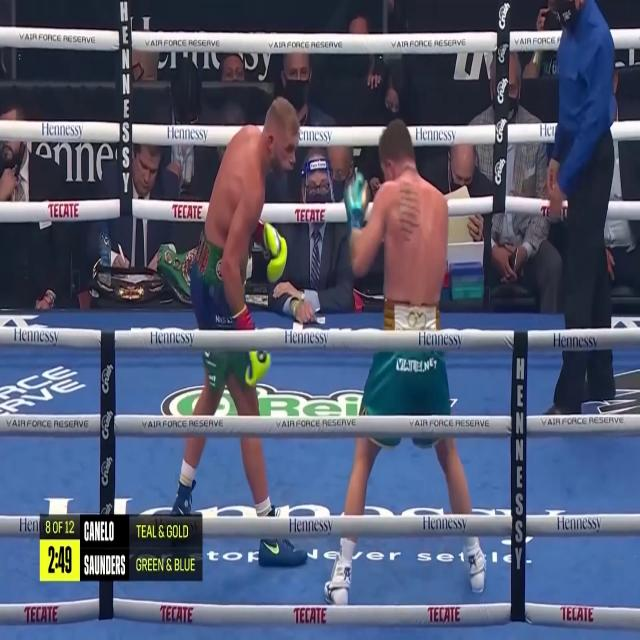boxer_1: (205, 96, 299, 314)
boxer_2: (351, 119, 448, 306)
gloves_1: (262, 221, 287, 282), (245, 350, 271, 385), (235, 306, 254, 328)
gloves_2: (344, 171, 364, 228)
